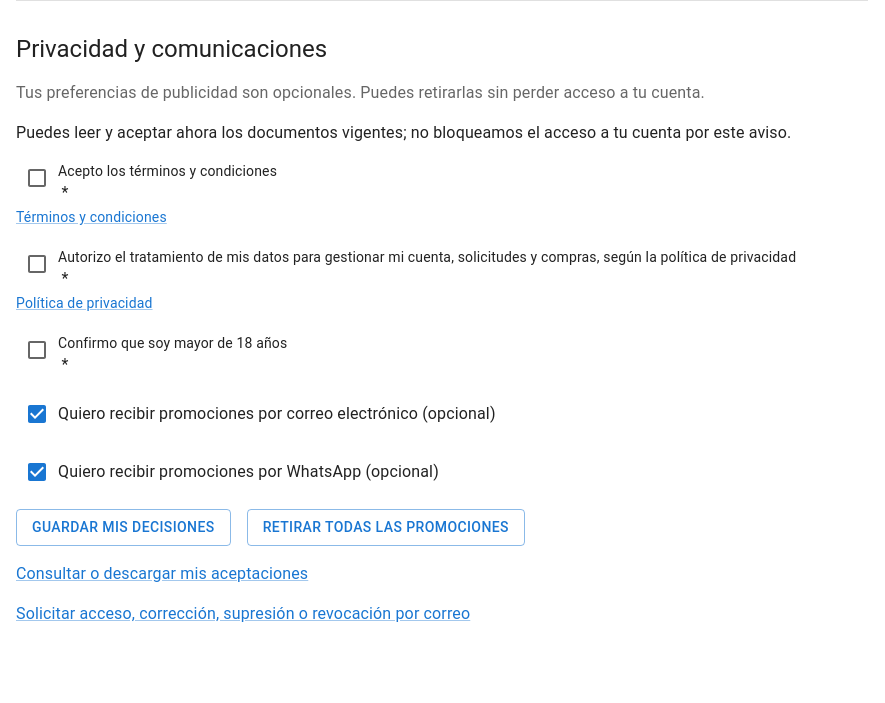
Test: withdraws advertising without requiring terms or privacy again
Check: the text "Puedes leer y aceptar ahora los documentos vigentes; no bloqueamos el acceso a tu cuenta por este aviso." is shown, box [16,123,791,142]
Click the button "Retirar todas las promociones".
click(386, 527)  # box [247,509,525,546]
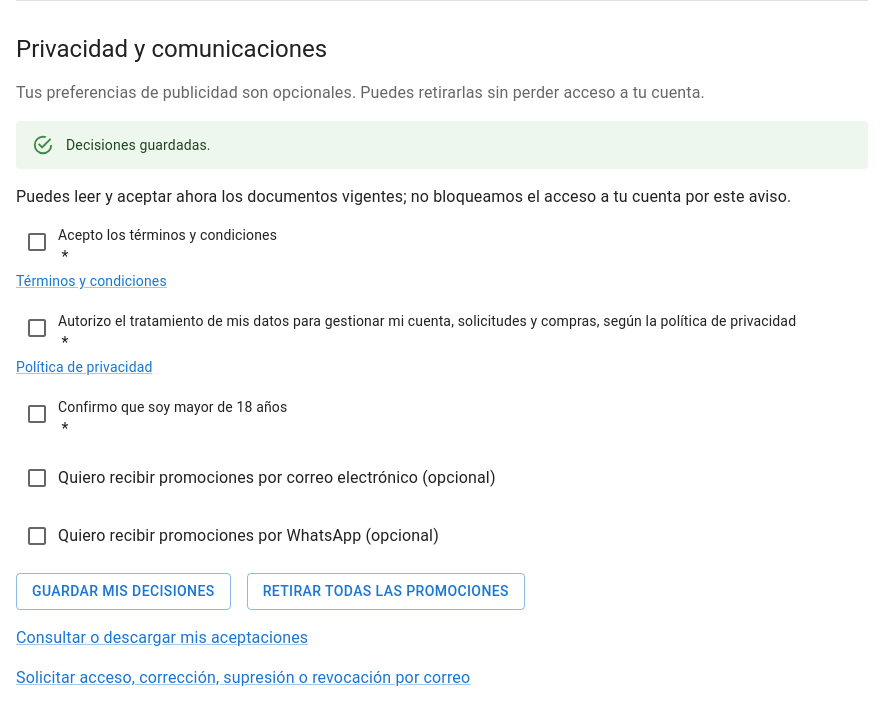
Check: the text "Decisiones guardadas." is shown, box [66,137,211,153]
